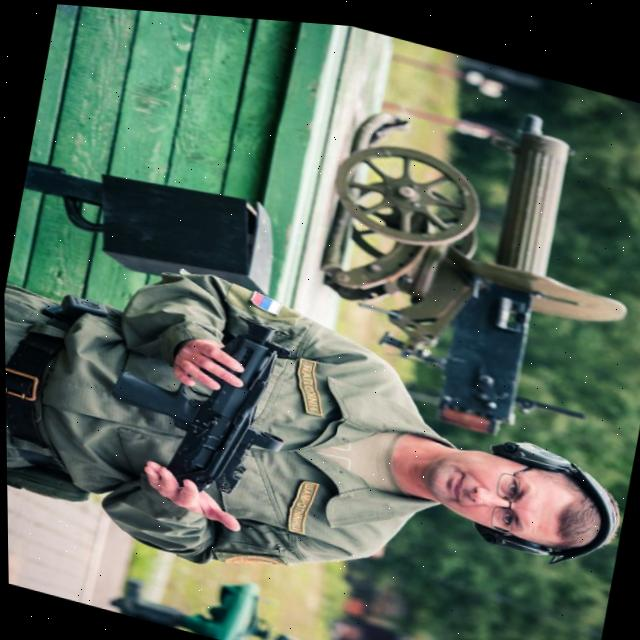firearm: (92, 280, 306, 511)
